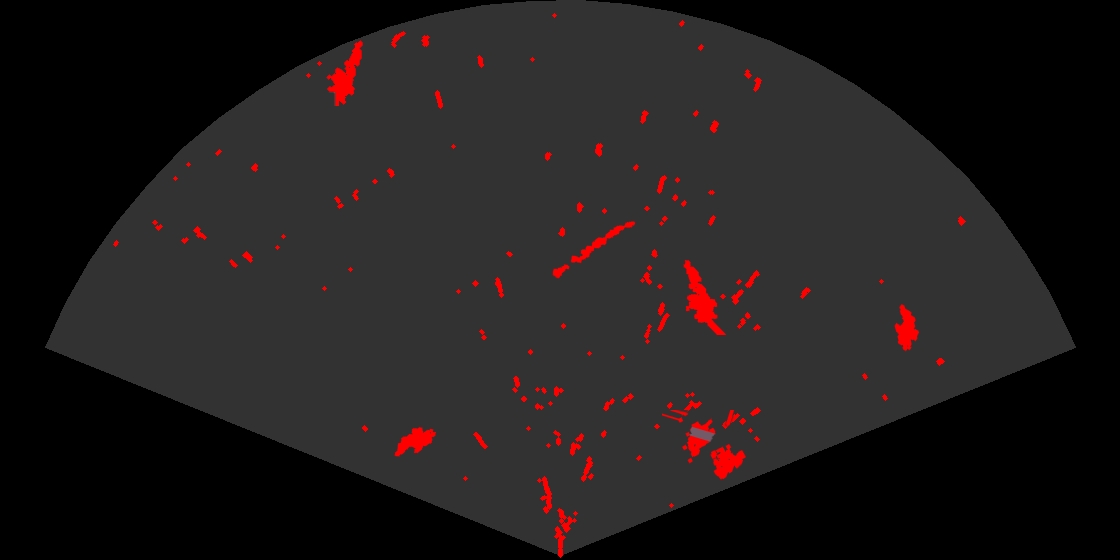AUV: (393, 425, 438, 458), (893, 303, 921, 353)
cage: (662, 410, 748, 481)
chain: (551, 220, 637, 280)
frogman: (682, 258, 728, 335), (325, 39, 364, 106)
